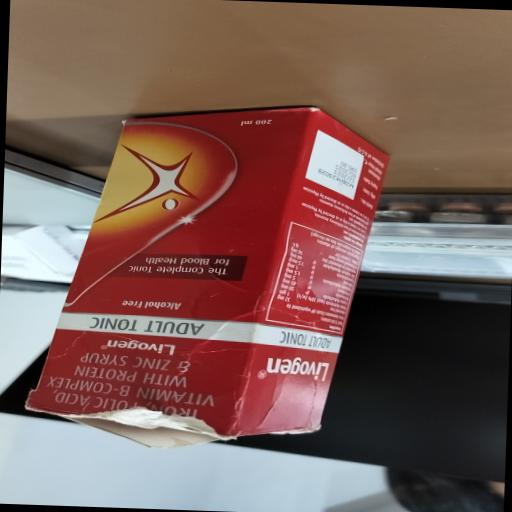Livogen: (120, 128, 219, 218), (246, 346, 347, 387), (78, 328, 196, 362)
medicine: (24, 106, 372, 428)
